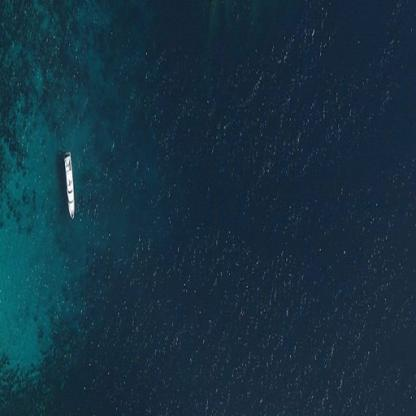ship: (57, 145, 85, 221)
